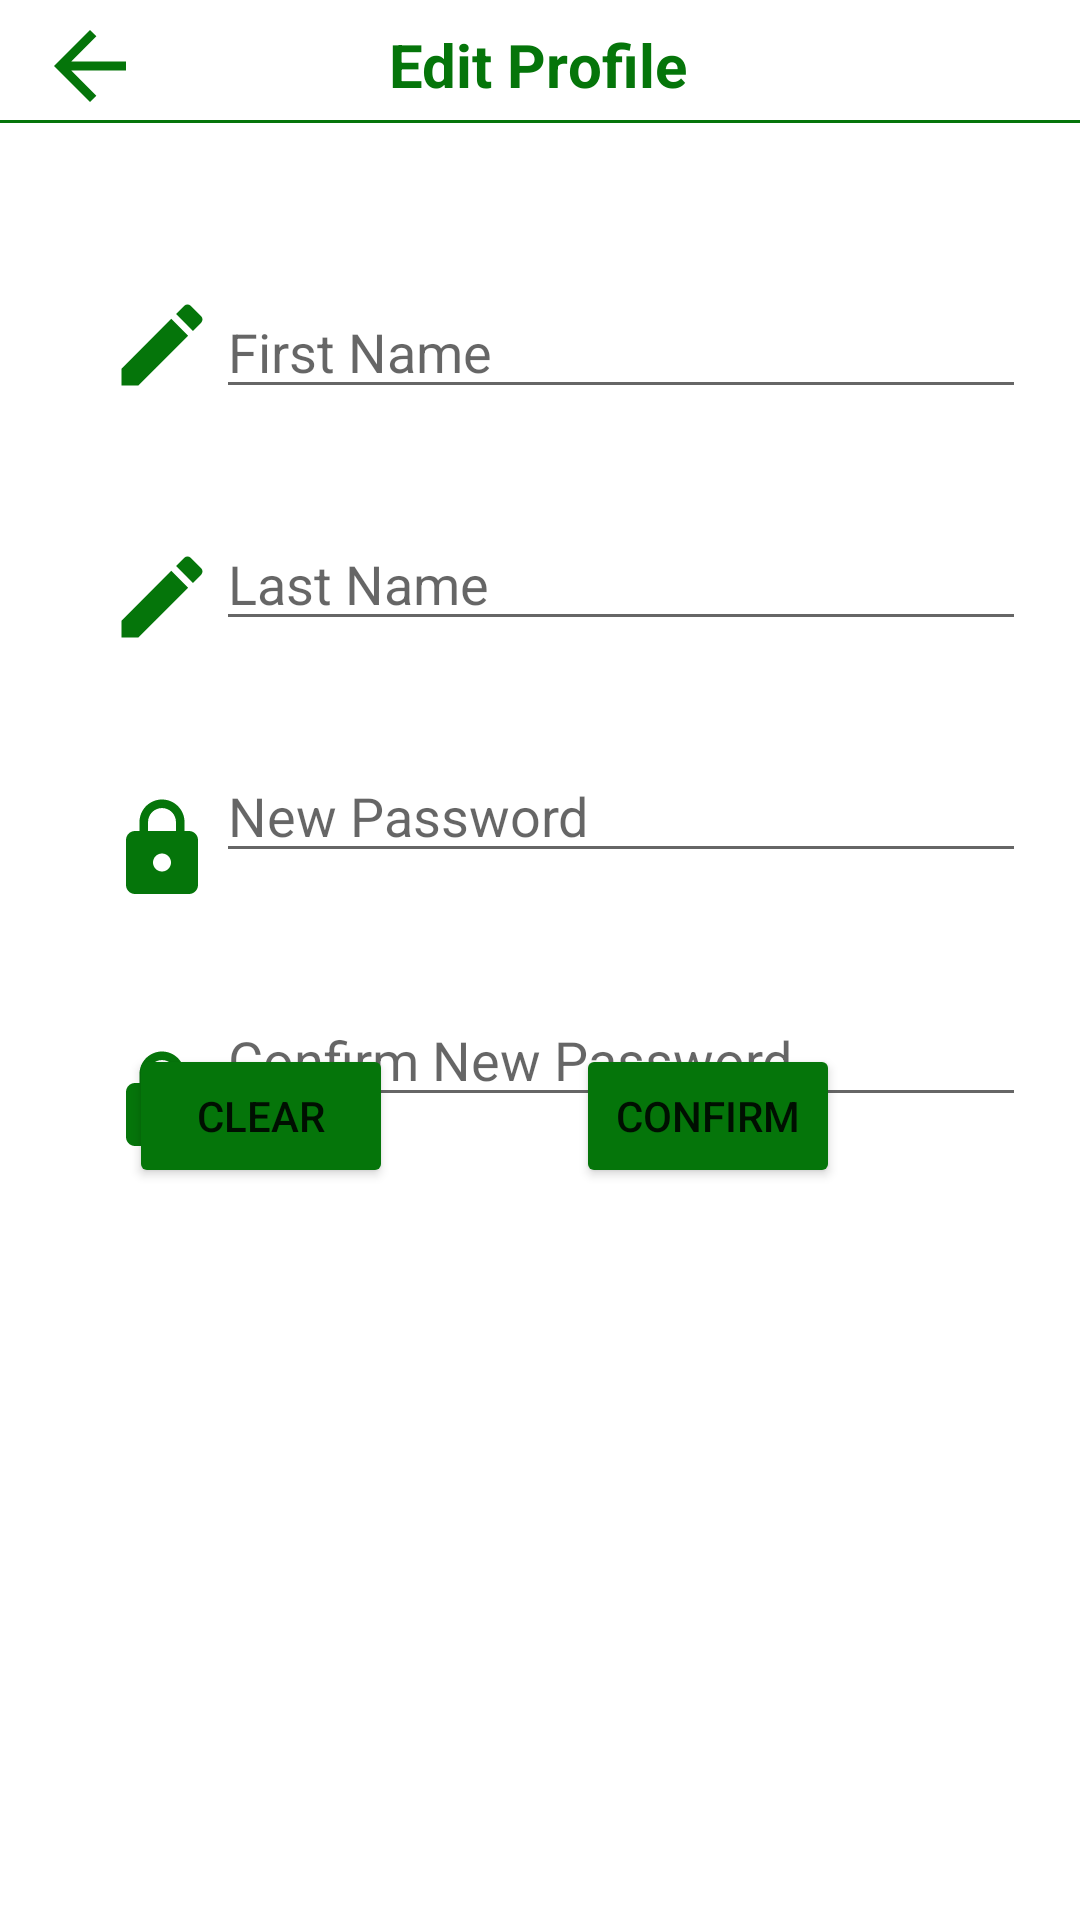

Icons on this 1080px x 1920px Android screen, each with its box as bbox=(x1, y1, x2, y2):
backarrow: bbox=(54, 30, 126, 102)
create: bbox=(121, 304, 203, 386), bbox=(121, 556, 203, 638)
